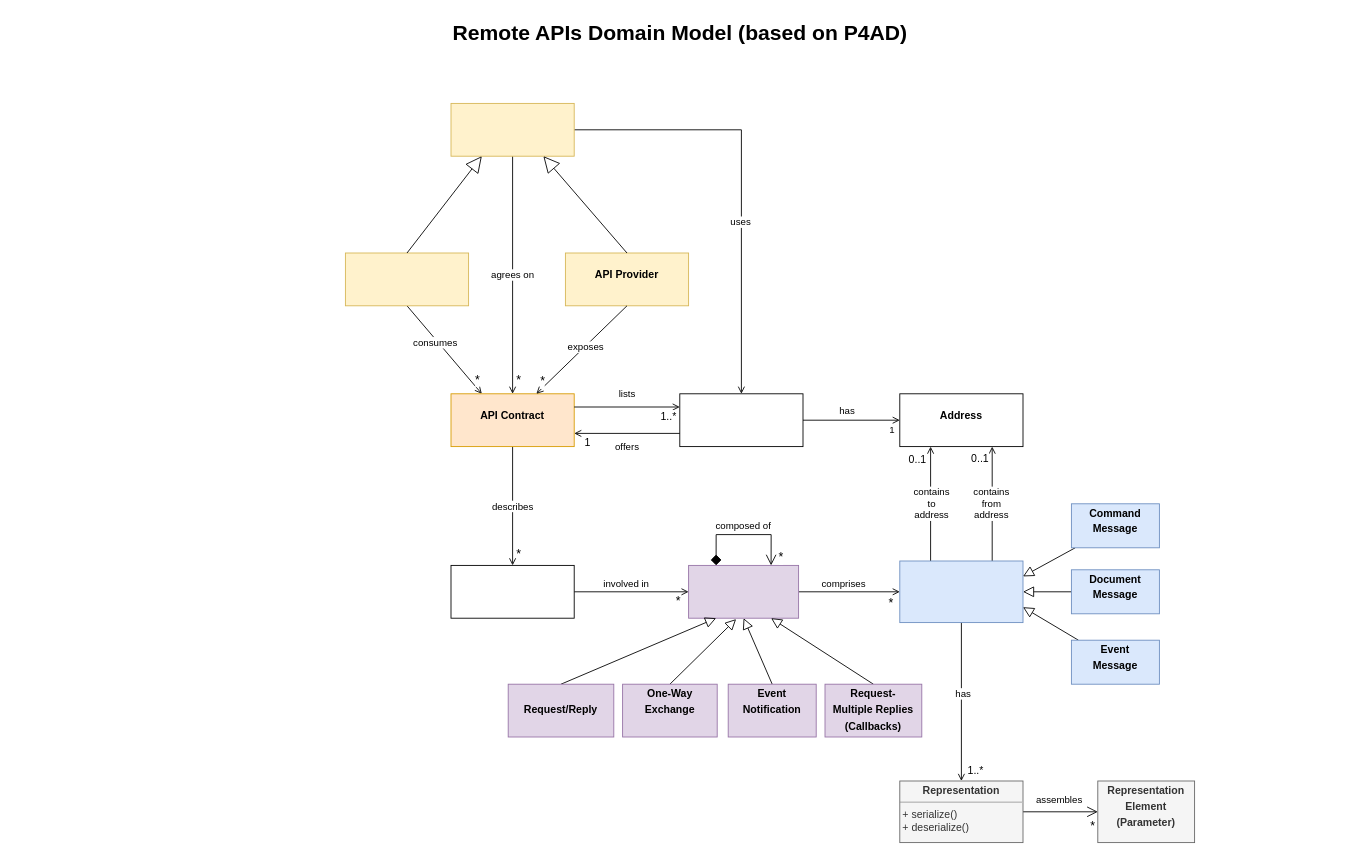
Image size: 1359x858. Some labels were removed from this diagram. Each missing label, with the box of its shape:
API Client: (345, 252, 469, 306)
API Endpoint: (679, 393, 803, 447)
Communication Participant: (450, 103, 574, 156)
Conversation: (688, 565, 799, 618)
Message - header - body: (899, 560, 1023, 623)
Operation + ID : string: (450, 565, 574, 618)
